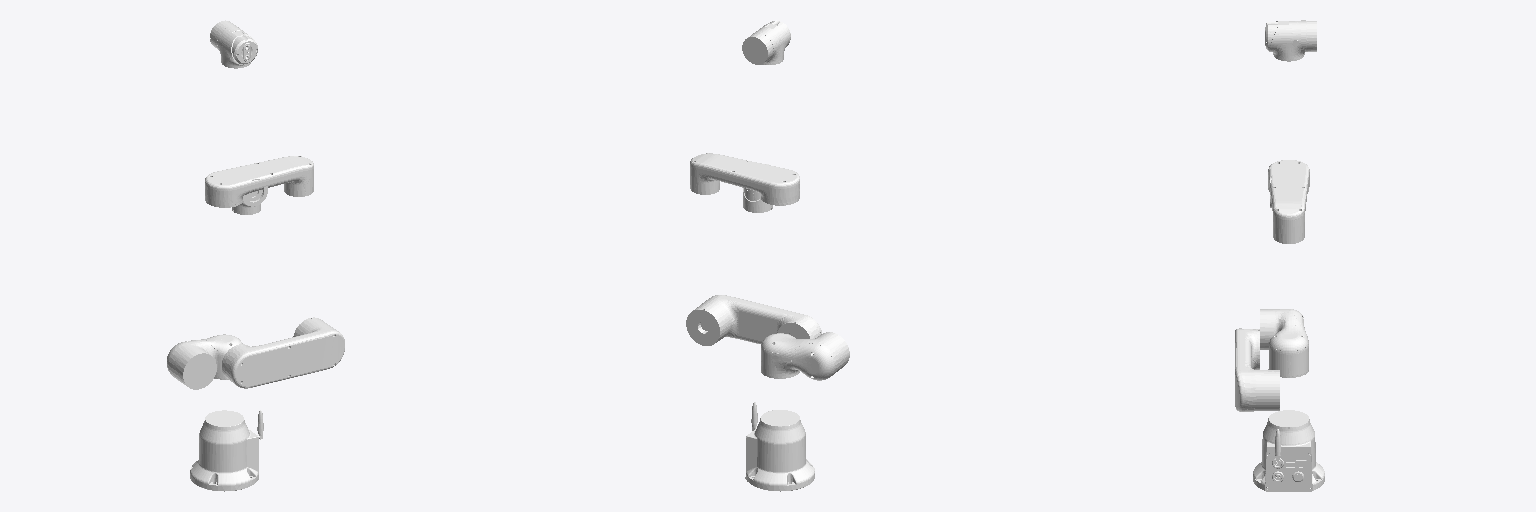
robot.urdf — rm_gen72_description:
<?xml version="1.0" encoding="utf-8"?>
<!-- This URDF was automatically created by SolidWorks to URDF Exporter! Originally created by [author] ([email redacted]) 
     Commit Version: 1.6.0-1-g15f4949  Build Version: 1.6.7594.29634
     For more information, please see http://wiki.ros.org/sw_urdf_exporter -->
<robot
  name="rm_gen72_description">
  <link
    name="base_link">
    <inertial>
      <origin
        xyz="0.000608631599856789 0.000101410841223995 0.0500536423028974"
        rpy="0 0 0" />
      <mass
        value="0.725732279372378" />
      <inertia
        ixx="0.00116526259312761"
        ixy="3.86984764047093E-06"
        ixz="3.61598634195121E-05"
        iyy="0.00114387939249178"
        iyz="-1.69159565748085E-06"
        izz="0.000799620765266388" />
    </inertial>
    <visual>
      <origin
        xyz="0 0 0"
        rpy="0 0 0" />
      <geometry>
        <mesh
          filename="package://rm_description/meshes/rm_gen72_arm/base_link.STL" />
      </geometry>
      <material
        name="">
        <color
          rgba="1 1 1 1" />
      </material>
    </visual>
    <collision>
      <origin
        xyz="0 0 0"
        rpy="0 0 0" />
      <geometry>
        <mesh
          filename="package://rm_description/meshes/rm_gen72_arm/base_link.STL" />
      </geometry>
    </collision>
  </link>
  <link
    name="Link1">
    <inertial>
      <origin
        xyz="3.54241616240111E-07 -6.0407327765511E-05 -0.0474562076947793"
        rpy="0 0 0" />
      <mass
        value="0.511231576042974" />
      <inertia
        ixx="0.000959440501675413"
        ixy="-1.90967914521862E-09"
        ixz="-7.95751539476377E-09"
        iyy="0.00102039305288465"
        iyz="1.46570590325122E-06"
        izz="0.000388714616194907" />
    </inertial>
    <visual>
      <origin
        xyz="0 0 0"
        rpy="0 0 0" />
      <geometry>
        <mesh
          filename="package://rm_description/meshes/rm_gen72_arm/Link1.STL" />
      </geometry>
      <material
        name="">
        <color
          rgba="1 1 1 1" />
      </material>
    </visual>
    <collision>
      <origin
        xyz="0 0 0"
        rpy="0 0 0" />
      <geometry>
        <mesh
          filename="package://rm_description/meshes/rm_gen72_arm/Link1.STL" />
      </geometry>
    </collision>
  </link>
  <joint
    name="joint1"
    type="revolute">
    <origin
      xyz="0 0 0.218"
      rpy="0 0 0" />
    <parent
      link="base_link" />
    <child
      link="Link1" />
    <axis
      xyz="0 0 1" />
    <limit
      lower="-3.0014"
      upper="3.0014"
      effort="25"
      velocity="3.141" />
  </joint>
  <link
    name="Link2">
    <inertial>
      <origin
        xyz="-7.09647952406739E-07 -0.0576246216953338 -3.88440270542586E-05"
        rpy="0 0 0" />
      <mass
        value="0.551907023014854" />
      <inertia
        ixx="0.00142140348660833"
        ixy="-1.11203318362369E-08"
        ixz="1.36371990293752E-08"
        iyy="0.00052571427239726"
        iyz="1.30499471891358E-06"
        izz="0.00127234961251408" />
    </inertial>
    <visual>
      <origin
        xyz="0 0 0"
        rpy="0 0 0" />
      <geometry>
        <mesh
          filename="package://rm_description/meshes/rm_gen72_arm/Link2.STL" />
      </geometry>
      <material
        name="">
        <color
          rgba="1 1 1 1" />
      </material>
    </visual>
    <collision>
      <origin
        xyz="0 0 0"
        rpy="0 0 0" />
      <geometry>
        <mesh
          filename="package://rm_description/meshes/rm_gen72_arm/Link2.STL" />
      </geometry>
    </collision>
  </link>
  <joint
    name="joint2"
    type="revolute">
    <origin
      xyz="0 0 0"
      rpy="-1.5708 0 0" />
    <parent
      link="Link1" />
    <child
      link="Link2" />
    <axis
      xyz="0 0 1" />
    <limit
      lower="-1.8323"
      upper="1.8323"
      effort="25"
      velocity="3.141" />
  </joint>
  <link
    name="Link3">
    <inertial>
      <origin
        xyz="0.00897441376214204 2.62633968732461E-05 -0.07382847021305"
        rpy="0 0 0" />
      <mass
        value="0.774130450031718" />
      <inertia
        ixx="0.00242102073961794"
        ixy="-6.22596416744426E-07"
        ixz="-0.000489521447339786"
        iyy="0.00248694314969312"
        iyz="-1.48542895560703E-06"
        izz="0.000900997189719803" />
    </inertial>
    <visual>
      <origin
        xyz="0 0 0"
        rpy="0 0 0" />
      <geometry>
        <mesh
          filename="package://rm_description/meshes/rm_gen72_arm/Link3.STL" />
      </geometry>
      <material
        name="">
        <color
          rgba="1 1 1 1" />
      </material>
    </visual>
    <collision>
      <origin
        xyz="0 0 0"
        rpy="0 0 0" />
      <geometry>
        <mesh
          filename="package://rm_description/meshes/rm_gen72_arm/Link3.STL" />
      </geometry>
    </collision>
  </link>
  <joint
    name="joint3"
    type="revolute">
    <origin
      xyz="0 -0.28 0"
      rpy="1.5708 0 0" />
    <parent
      link="Link2" />
    <child
      link="Link3" />
    <axis
      xyz="0 0 1" />
    <limit
      lower="-3.0014"
      upper="3.0014"
      effort="25"
      velocity="3.141" />
  </joint>
  <link
    name="Link4">
    <inertial>
      <origin
        xyz="-0.00962438865086499 0.0352034287339324 0.000174576348464699"
        rpy="0 0 0" />
      <mass
        value="0.437130215853825" />
      <inertia
        ixx="0.000866914153248162"
        ixy="0.000148761646913658"
        ixz="-7.42553547352418E-07"
        iyy="0.000267753002587659"
        iyz="2.68058265485487E-06"
        izz="0.000952324298928136" />
    </inertial>
    <visual>
      <origin
        xyz="0 0 0"
        rpy="0 0 0" />
      <geometry>
        <mesh
          filename="package://rm_description/meshes/rm_gen72_arm/Link4.STL" />
      </geometry>
      <material
        name="">
        <color
          rgba="1 1 1 1" />
      </material>
    </visual>
    <collision>
      <origin
        xyz="0 0 0"
        rpy="0 0 0" />
      <geometry>
        <mesh
          filename="package://rm_description/meshes/rm_gen72_arm/Link4.STL" />
      </geometry>
    </collision>
  </link>
  <joint
    name="joint4"
    type="revolute">
    <origin
      xyz="0.04 0 0"
      rpy="1.5708 0 0" />
    <parent
      link="Link3" />
    <child
      link="Link4" />
    <axis
      xyz="0 0 1" />
    <limit
      lower="-2.8792"
      upper="0.9597"
      effort="25"
      velocity="3.141" />
  </joint>
  <link
    name="Link5">
    <inertial>
      <origin
        xyz="-4.77956518807332E-07 -3.84737693792594E-05 -0.066955487820054"
        rpy="0 0 0" />
      <mass
        value="0.424276753764529" />
      <inertia
        ixx="0.0011244489011316"
        ixy="7.5662322019411E-09"
        ixz="-1.71276249932628E-08"
        iyy="0.00103382374928123"
        iyz="8.24694417478756E-07"
        izz="0.000274640088277484" />
    </inertial>
    <visual>
      <origin
        xyz="0 0 0"
        rpy="0 0 0" />
      <geometry>
        <mesh
          filename="package://rm_description/meshes/rm_gen72_arm/Link5.STL" />
      </geometry>
      <material
        name="">
        <color
          rgba="1 1 1 1" />
      </material>
    </visual>
    <collision>
      <origin
        xyz="0 0 0"
        rpy="0 0 0" />
      <geometry>
        <mesh
          filename="package://rm_description/meshes/rm_gen72_arm/Link5.STL" />
      </geometry>
    </collision>
  </link>
  <joint
    name="joint5"
    type="revolute">
    <origin
      xyz="-0.019 0.2525 0"
      rpy="-1.5708 0 0" />
    <parent
      link="Link4" />
    <child
      link="Link5" />
    <axis
      xyz="0 0 1" />
    <limit
      lower="-3.0014"
      upper="3.0014"
      effort="5"
      velocity="3.926" />
  </joint>
  <link
    name="Link6">
    <inertial>
      <origin
        xyz="0.00184221861298974 0.0379763265035087 -9.21090904324278E-05"
        rpy="0 0 0" />
      <mass
        value="0.302793039332829" />
      <inertia
        ixx="0.00014011480503376"
        ixy="-3.00204828273403E-06"
        ixz="-4.58155498966787E-10"
        iyy="0.000132631402640971"
        iyz="7.01344540253995E-10"
        izz="0.000155721320872423" />
    </inertial>
    <visual>
      <origin
        xyz="0 0 0"
        rpy="0 0 0" />
      <geometry>
        <mesh
          filename="package://rm_description/meshes/rm_gen72_arm/Link6.STL" />
      </geometry>
      <material
        name="">
        <color
          rgba="1 1 1 1" />
      </material>
    </visual>
    <collision>
      <origin
        xyz="0 0 0"
        rpy="0 0 0" />
      <geometry>
        <mesh
          filename="package://rm_description/meshes/rm_gen72_arm/Link6.STL" />
      </geometry>
    </collision>
  </link>
  <joint
    name="joint6"
    type="revolute">
    <origin
      xyz="0 0 0"
      rpy="1.5708 0 0" />
    <parent
      link="Link5" />
    <child
      link="Link6" />
    <axis
      xyz="0 0 1" />
    <limit
      lower="-1.707"
      upper="1.783"
      effort="5"
      velocity="3.926" />
  </joint>
  <link
    name="Link7">
    <inertial>
      <origin
        xyz="0.000199884675729955 -4.25081843764018E-08 -0.0292498694019246"
        rpy="0 0 0" />
      <mass
        value="0.176612671882913" />
      <inertia
        ixx="6.24281233883421E-05"
        ixy="2.55814128580721E-10"
        ixz="-3.1014379202721E-12"
        iyy="6.24291486534025E-05"
        iyz="1.37181281239386E-11"
        izz="8.48642555354654E-05" />
    </inertial>
    <visual>
      <origin
        xyz="0 0 0"
        rpy="0 0 0" />
      <geometry>
        <mesh
          filename="package://rm_description/meshes/rm_gen72_arm/Link7.STL" />
      </geometry>
      <material
        name="">
        <color
          rgba="1 1 1 1" />
      </material>
    </visual>
    <collision>
      <origin
        xyz="0 0 0"
        rpy="0 0 0" />
      <geometry>
        <mesh
          filename="package://rm_description/meshes/rm_gen72_arm/Link7.STL" />
      </geometry>
    </collision>
  </link>
  <joint
    name="joint7"
    type="revolute">
    <origin
      xyz="0.0905 0.067 0"
      rpy="1.5708 0 1.5708" />
    <parent
      link="Link6" />
    <child
      link="Link7" />
    <axis
      xyz="0 0 1" />
    <limit
      lower="-3.0014"
      upper="3.0014"
      effort="5"
      velocity="3.926" />
  </joint>
</robot>

--- Render facts (derived) ---
3 views of the same robot in one strip: view 1: azimuth 30°, elevation 25°; view 2: azimuth 150°, elevation 25°; view 3: azimuth 270°, elevation 25° (orthographic).
Model rm_gen72_description with 8 links and 7 joints (7 revolute), rooted at base_link, posed all joints at 0.
Links seen in each view (by area): view 1: Link2, base_link, Link3, Link1, Link5, Link4; view 2: base_link, Link2, Link3, Link1, Link5; view 3: base_link, Link3, Link2, Link1, Link5.
Link boxes in pixels (bbox=[...]): Link2: bbox=[222, 317, 344, 388]; base_link: bbox=[190, 410, 263, 491]; Link3: bbox=[205, 156, 313, 207]; Link1: bbox=[167, 334, 242, 389]; Link5: bbox=[210, 20, 257, 68]; Link4: bbox=[232, 179, 267, 214]; base_link: bbox=[745, 402, 814, 491]; Link2: bbox=[686, 295, 821, 345]; Link3: bbox=[690, 153, 799, 205]; Link1: bbox=[761, 332, 849, 380]; Link5: bbox=[742, 20, 790, 64]; base_link: bbox=[1253, 410, 1324, 491]; Link3: bbox=[1268, 160, 1309, 243]; Link2: bbox=[1235, 328, 1279, 411]; Link1: bbox=[1260, 309, 1308, 377]; Link5: bbox=[1265, 21, 1316, 61].
Bounding box of the posed robot: 0.2816 × 0.1371 × 0.7741 m (x, y, z).
7 mesh visuals loaded from 8 distinct referenced files (7 binary STL); not drawn: 1 (reference not matched to a file when rendering).
